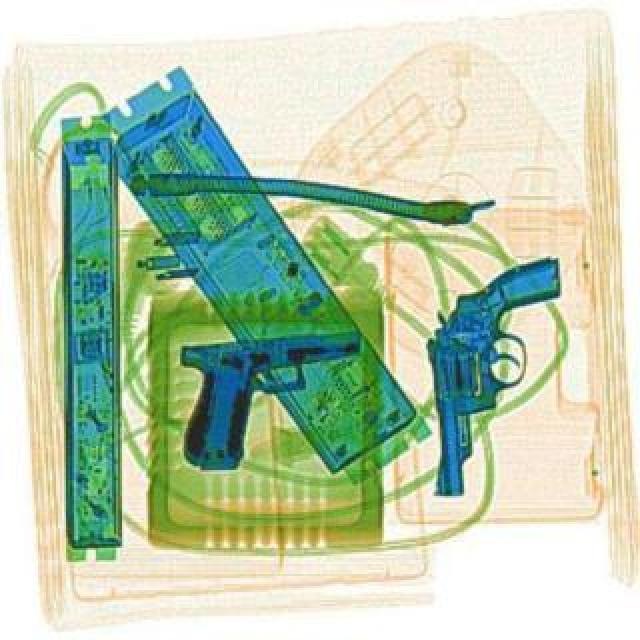gun: (420, 254, 574, 494), (168, 326, 372, 474)
